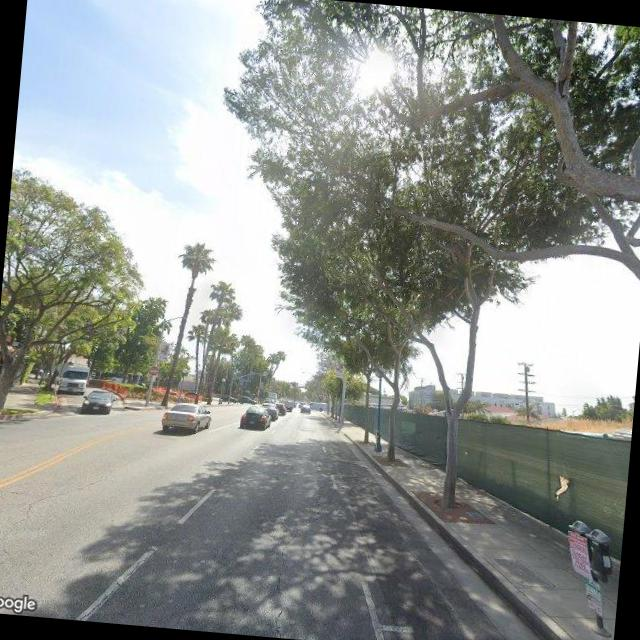pothole: (14, 459, 120, 530), (260, 528, 308, 638)
